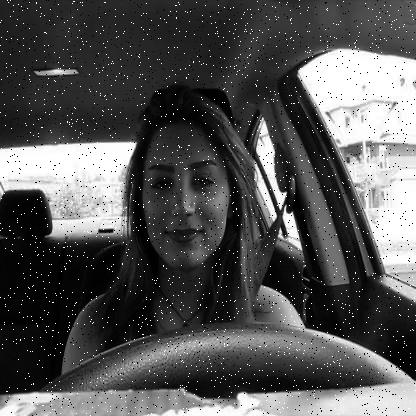seatbelt: (107, 82, 298, 322)
